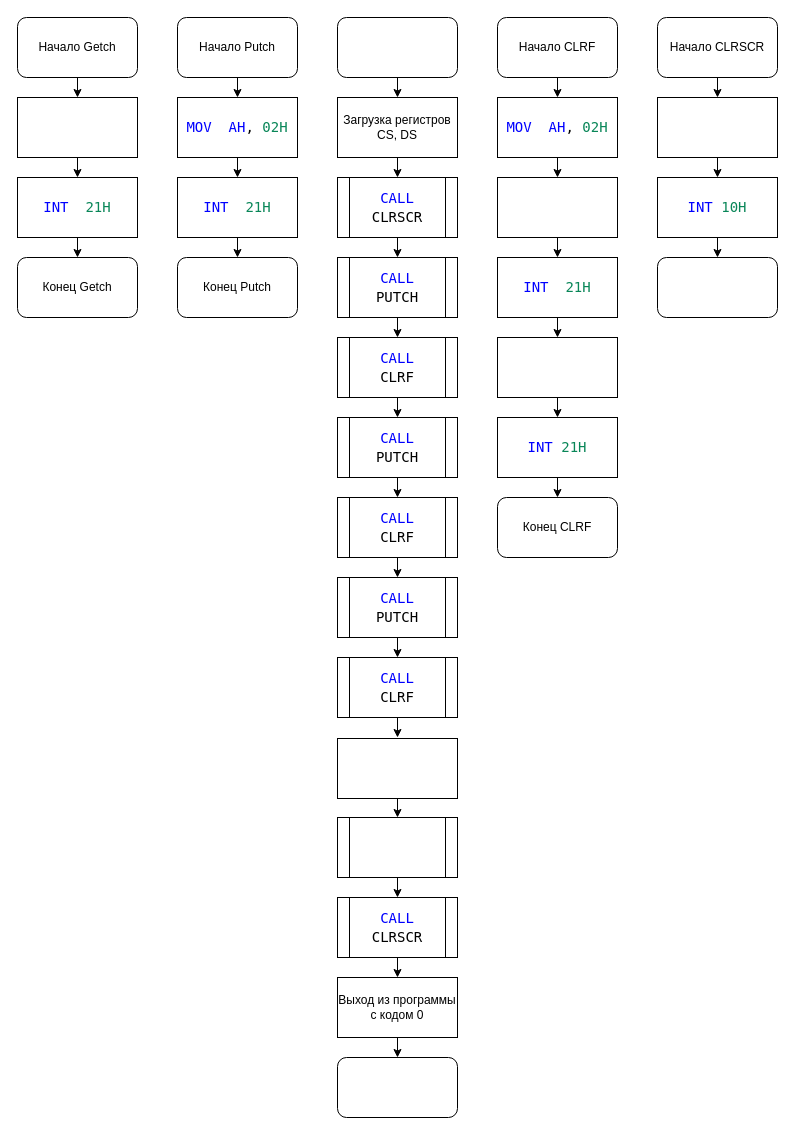
Some shapes in this 795 by 1135 pixel diagram are drawn without their labels. Here are the shapes that lost their labels. From the top down, the box of each, then its label:
(336, 16, 458, 78): Начало
(16, 96, 138, 158): MOV AH , 01H
(656, 96, 778, 158): MOV AX , 02H
(496, 176, 618, 238): MOV DL , 10
(656, 256, 778, 318): Конец CLRSCR
(496, 336, 618, 398): MOV DL , 13
(336, 738, 458, 798): Загрузка и вывод на экран OFFSET MSG
(336, 816, 458, 878): CALL GETCH
(336, 1056, 458, 1118): Конец
